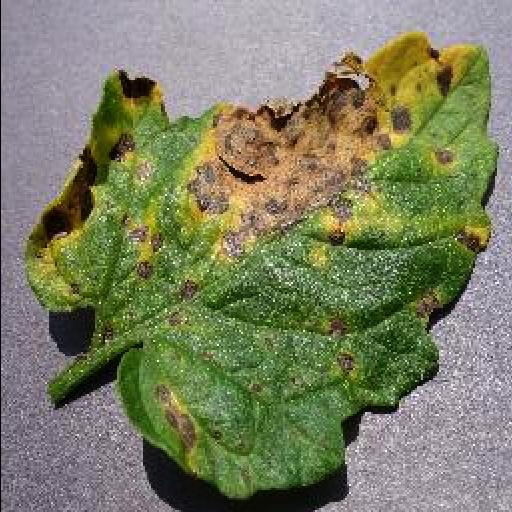disease_tomato: (25, 39, 495, 499)
